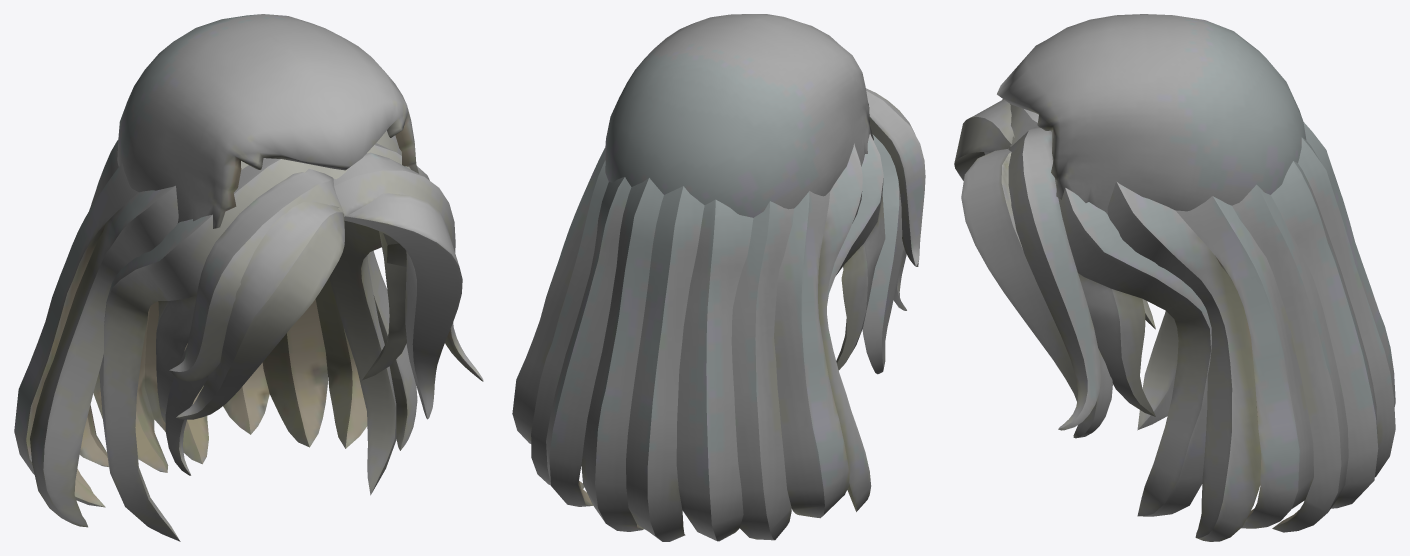
Rendered from hair.long.hair-2.gltf.
3 renders of one model, left to right at view 1: azimuth 30°, elevation 25°; view 2: azimuth 150°, elevation 25°; view 3: azimuth 270°, elevation 25°, orthographic. The views are drawn at different scales.
Visible parts, largest first — view 1: Hair_Long, Hair_Buzzed; view 2: Hair_Long, Hair_Buzzed; view 3: Hair_Long, Hair_Buzzed.
Boxes of the visible parts, x1,y1,x2,y2 form: Hair_Long: (14,130,483,541); Hair_Buzzed: (117,14,418,228); Hair_Long: (512,88,925,541); Hair_Buzzed: (604,14,873,217); Hair_Long: (954,99,1395,541); Hair_Buzzed: (997,14,1306,214).
Size of the model in its own units: 0.2446 by 0.3127 by 0.2704.
2 materials, 2 textured.
